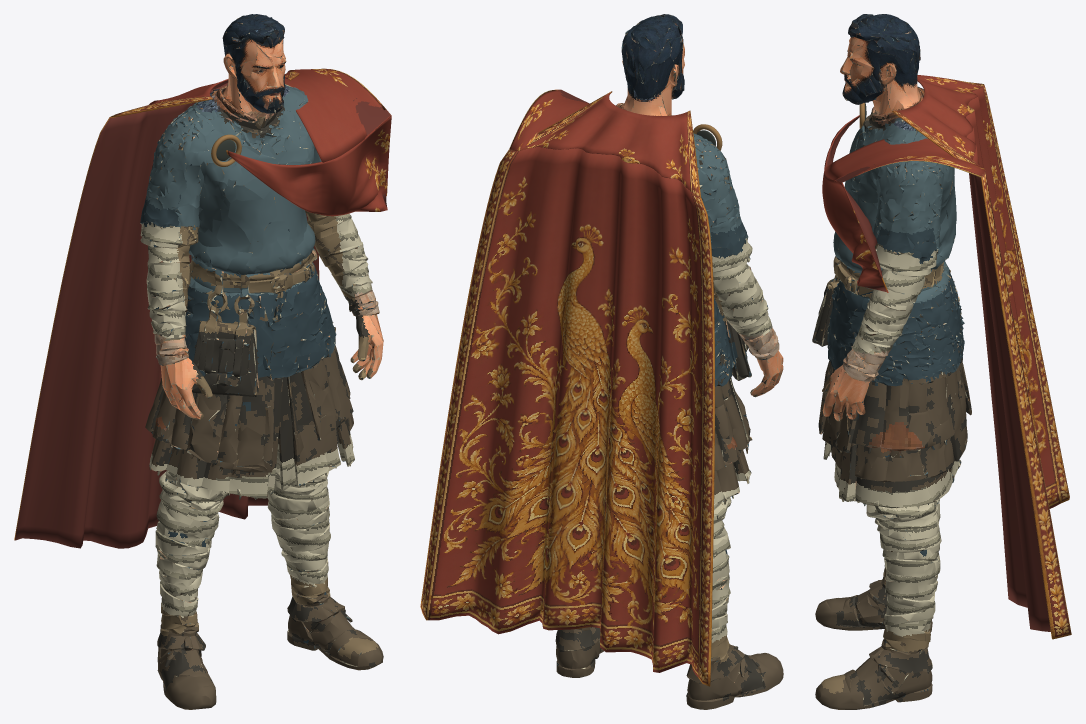
Rendered from mercenary-tailored.glb.
3 renders of one model, left to right at view 1: azimuth 30°, elevation 25°; view 2: azimuth 150°, elevation 25°; view 3: azimuth 270°, elevation 25°, orthographic.
Visible parts, largest first — view 1: mercenary-tailored runtime mesh; view 2: mercenary-tailored runtime mesh; view 3: mercenary-tailored runtime mesh.
Boxes of the visible parts, bbox=[...] form: mercenary-tailored runtime mesh: bbox=[14, 14, 391, 709]; mercenary-tailored runtime mesh: bbox=[420, 14, 783, 709]; mercenary-tailored runtime mesh: bbox=[812, 14, 1071, 709].
Size of the model in its own units: 0.9693 by 2.03 by 0.7416.
Materials: 6 (2 with a texture image).
